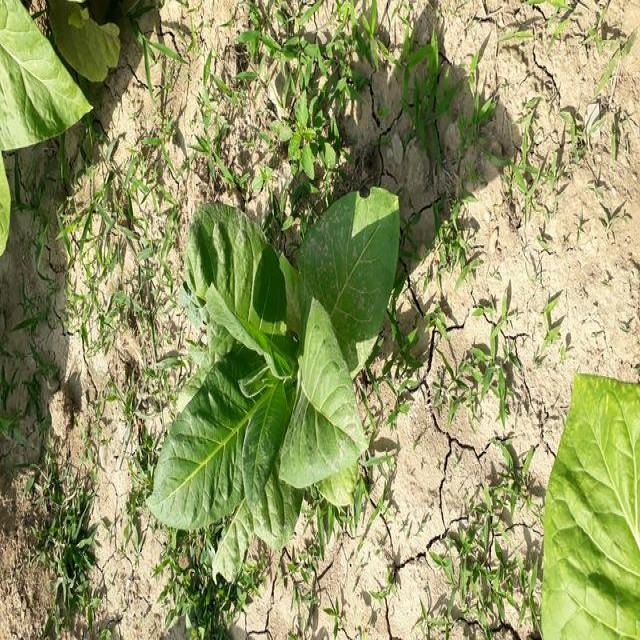crop: (154, 188, 402, 553)
